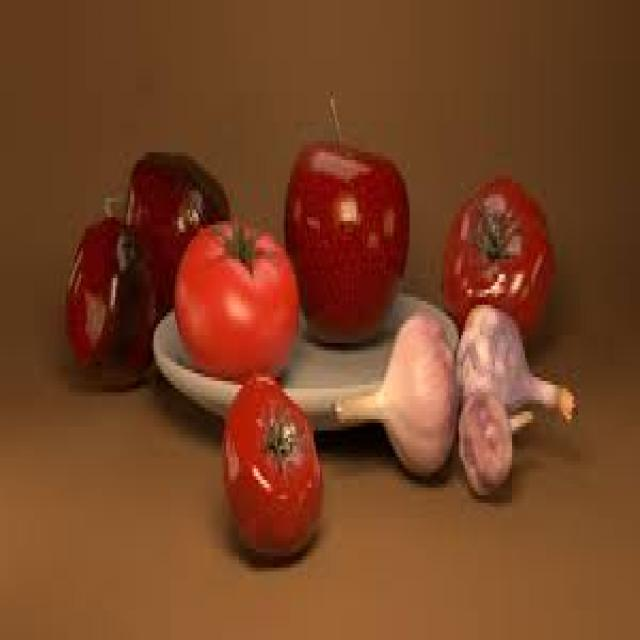organic waste: (282, 88, 408, 342), (329, 308, 452, 484), (100, 145, 233, 297), (170, 213, 296, 369), (442, 171, 554, 343), (220, 373, 320, 564), (62, 205, 158, 388), (452, 297, 574, 423), (457, 389, 531, 495)
